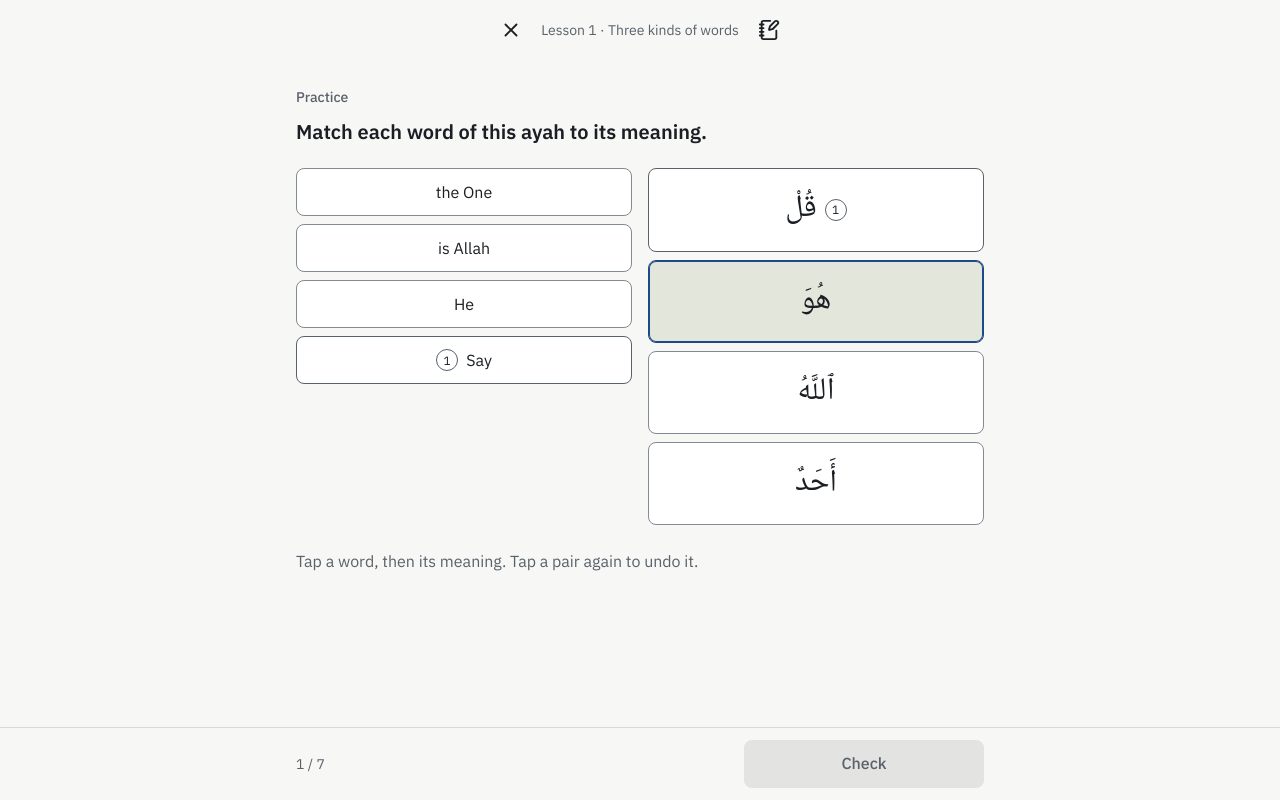
it: screens › match: pair by tapping, then check
Earlier steps of the test are not shown.
Click the button "He": click(464, 304) [296, 280, 632, 328]
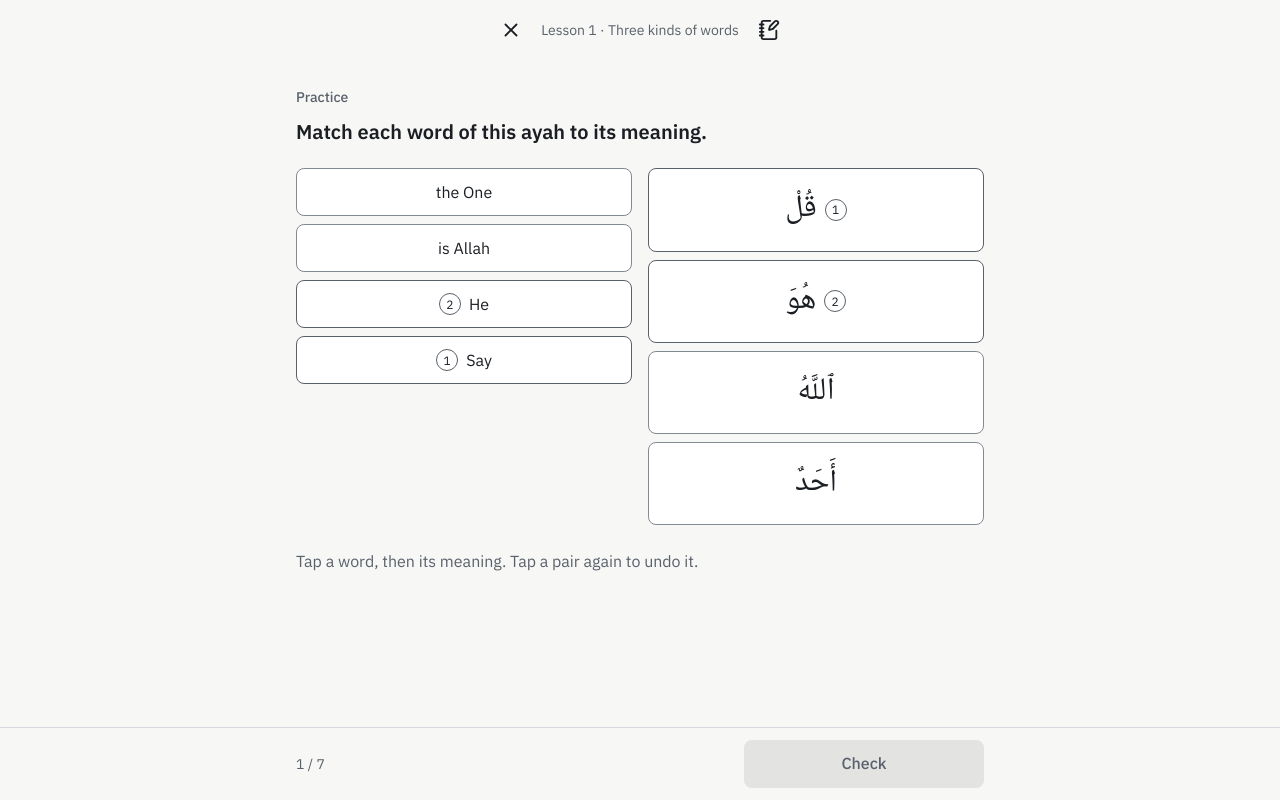
Click the button "ٱللَّهُ": click(816, 392) [648, 351, 984, 434]
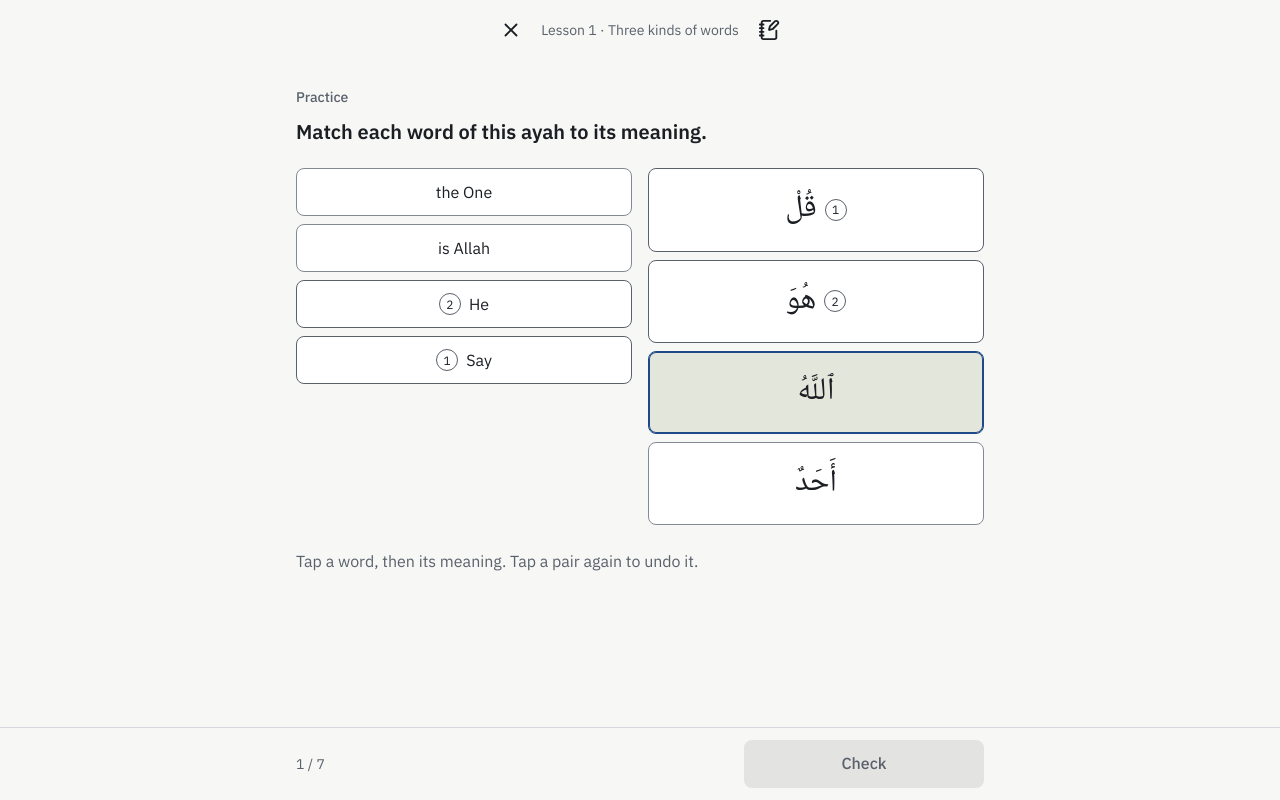
Click the button "is Allah": click(464, 248) [296, 224, 632, 272]
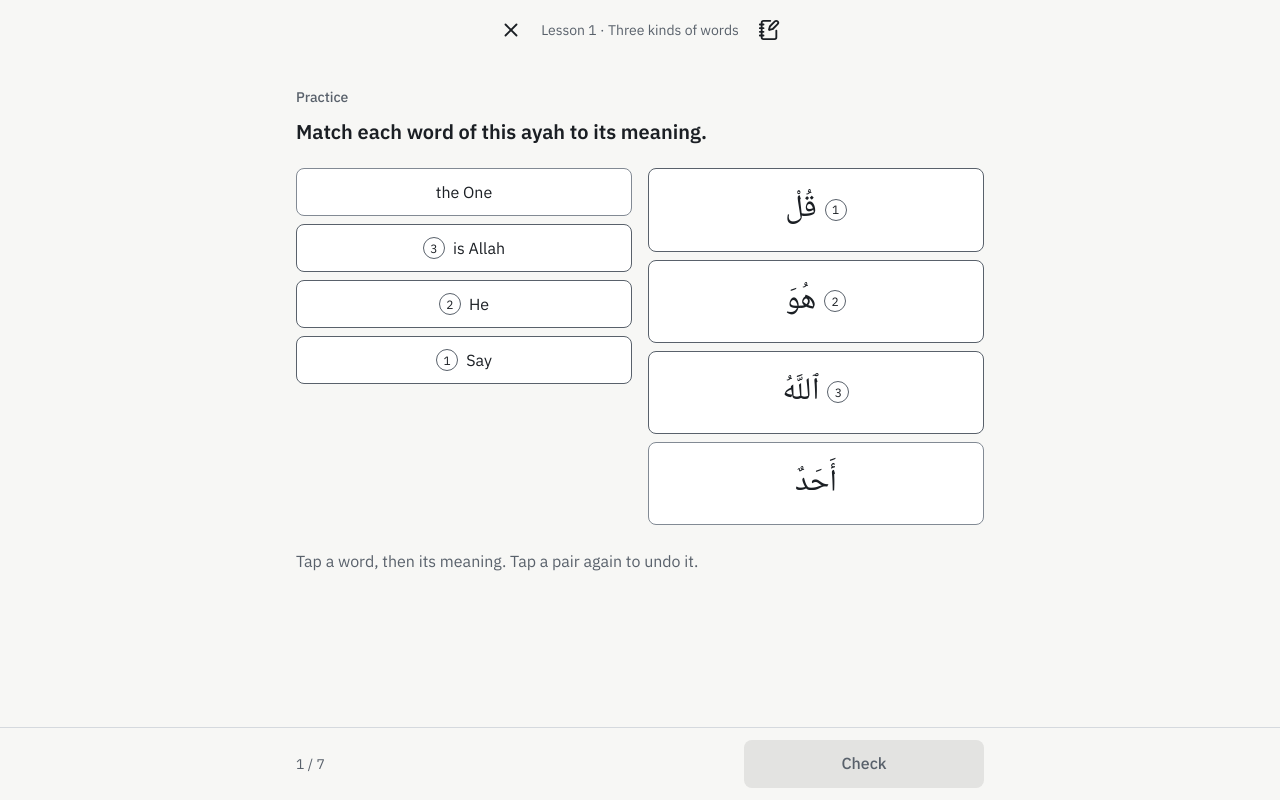
expect the button "Check" is disabled: met, box [744, 740, 984, 788]
Click the button "أَحَدٌ": click(816, 484) [648, 442, 984, 525]
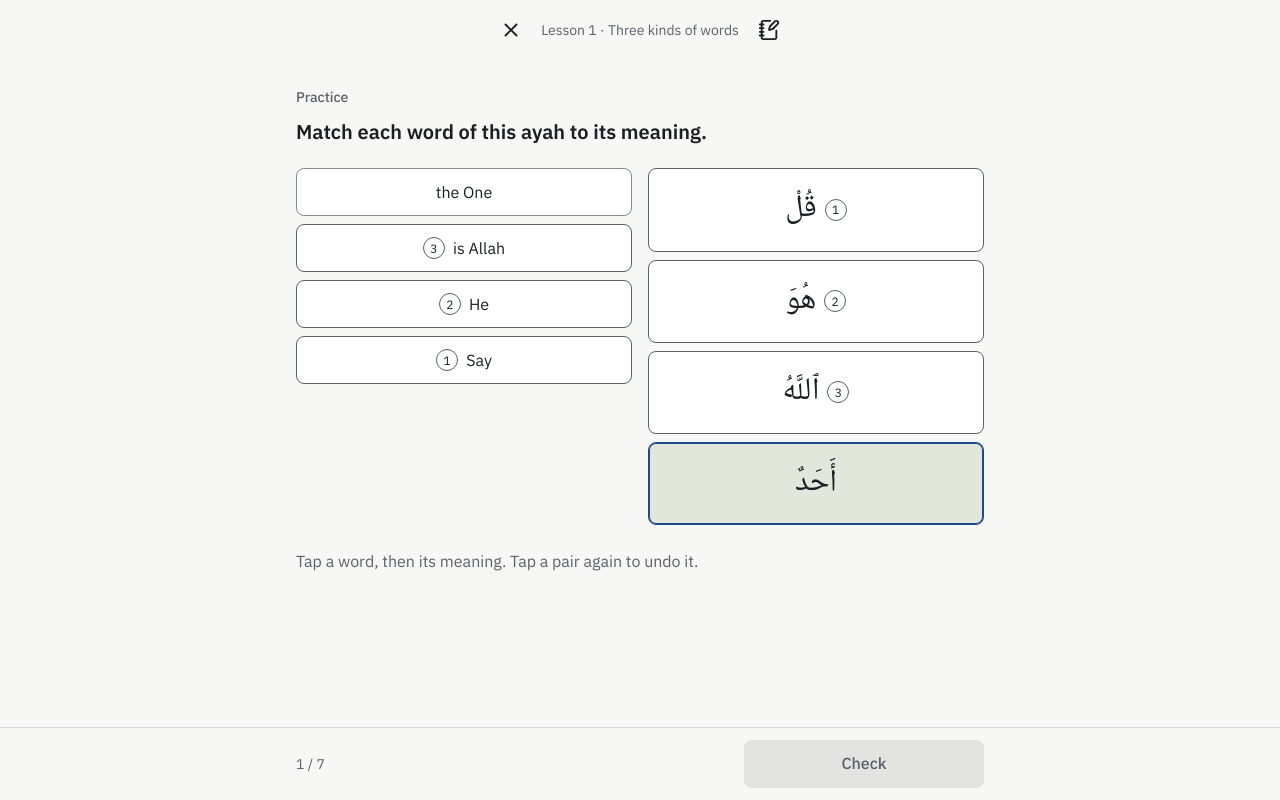
Click the button "the One": click(464, 192) [296, 168, 632, 216]
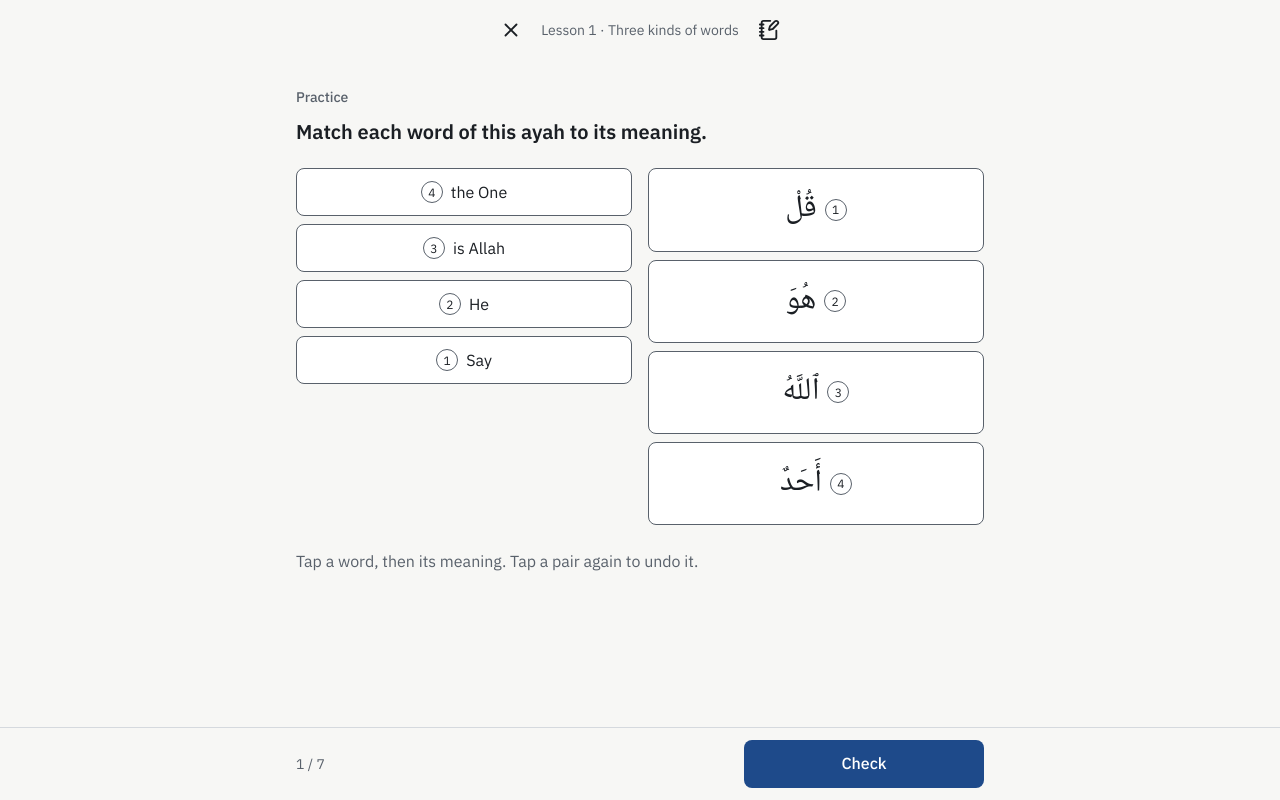
expect the number of buttons named "Pair 4: the One" is 2: met, box [296, 168, 632, 216]; [648, 442, 984, 525]
Click the button "Check": click(864, 764) [744, 740, 984, 788]
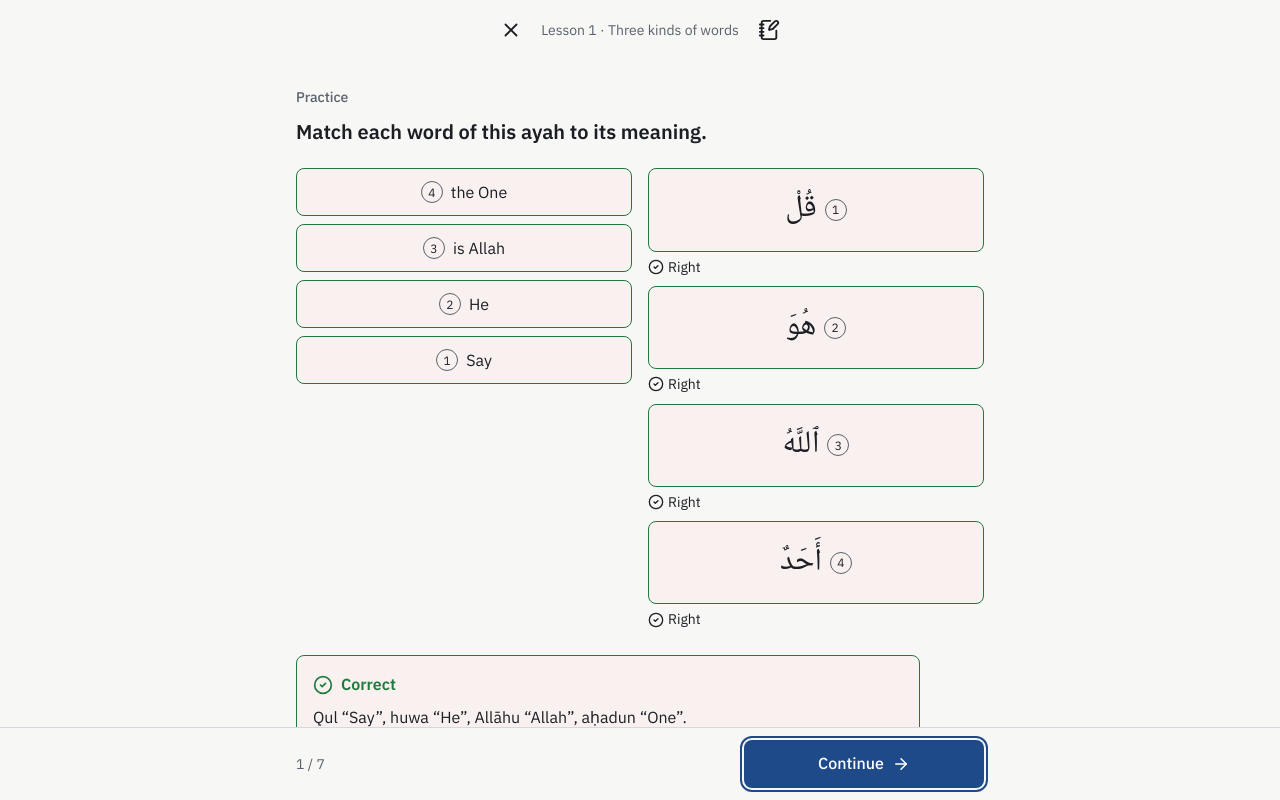
expect the text "Correct" is shown: met, box [341, 672, 396, 697]
